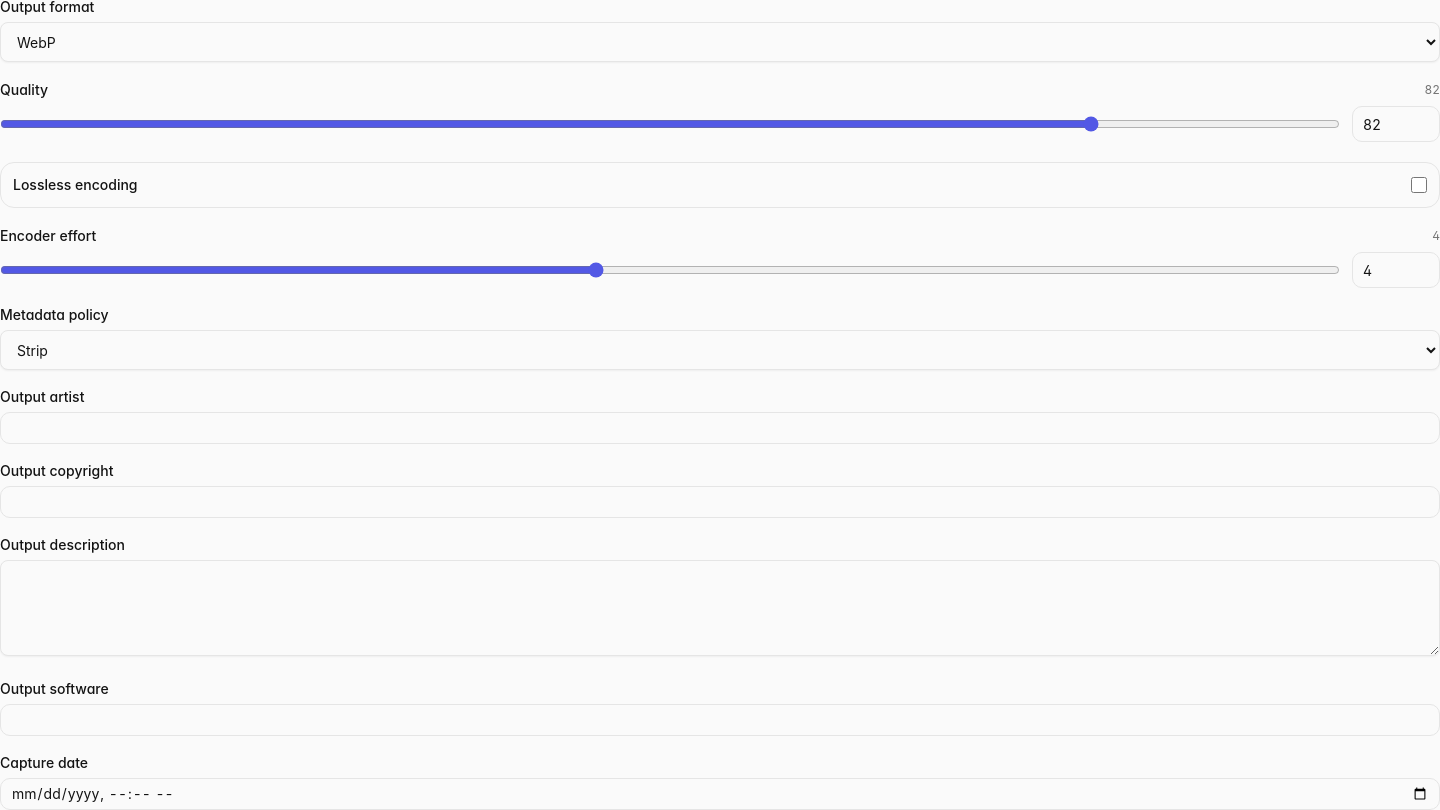
Test: contextual encoder controls › contextualizes terminal pipeline output controls
This screenshot has width=1440, height=810.
Expected: the slider labelled "Quality" is shown, [0,106,1340,142]
Expected: the checkbox labelled "Lossless encoding" is shown, [1411,177,1427,193]
Select "JPEG" in the dropdown labelled "Output format": (720, 42) [0,22,1439,62]
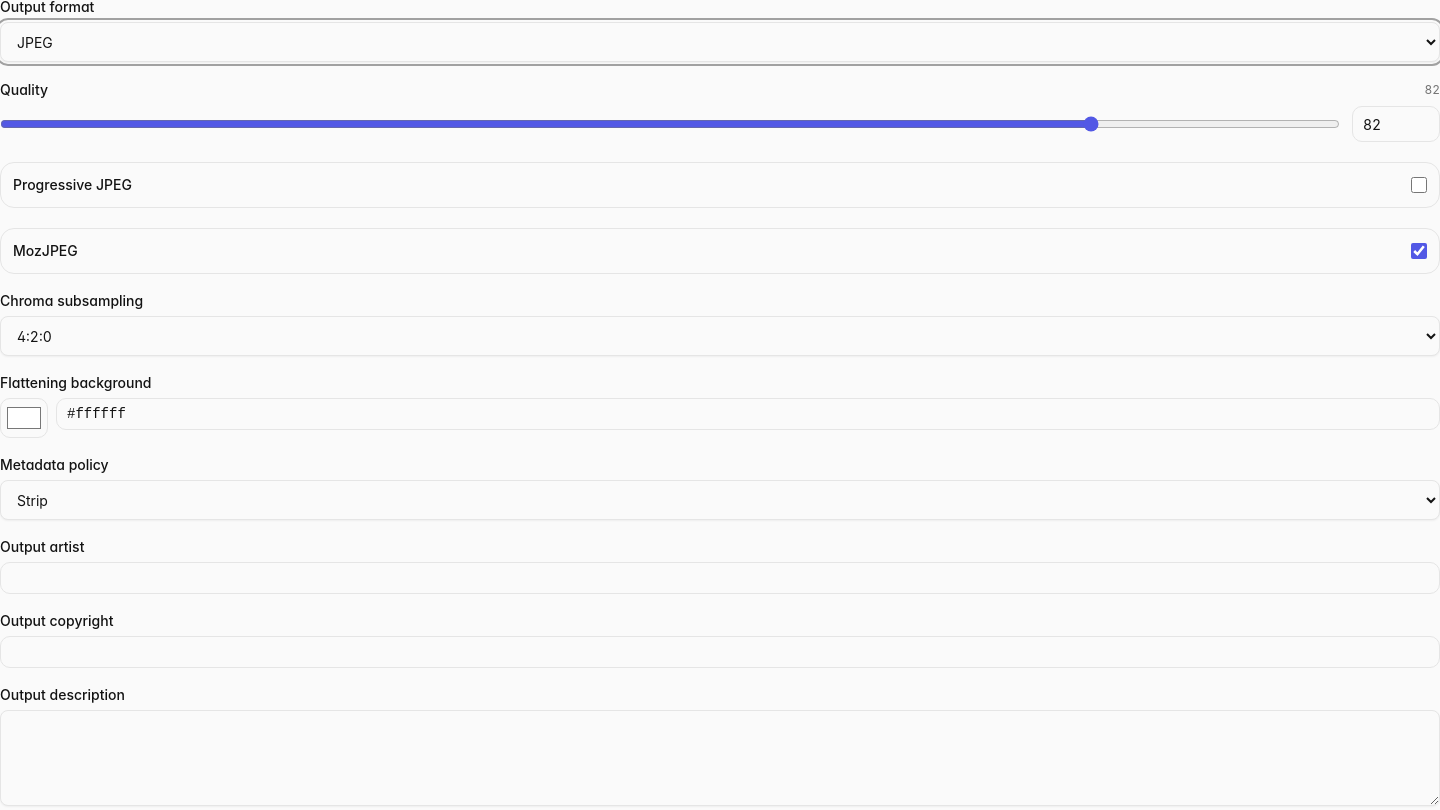
Now the checkbox labelled "MozJPEG" is shown, box [1411,243,1427,259]
Now the dropdown labelled "Chroma subsampling" is shown, box [0,316,1439,356]
Now the text "Lossless encoding" is gone
